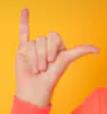clockwise: (14, 6, 101, 91)
